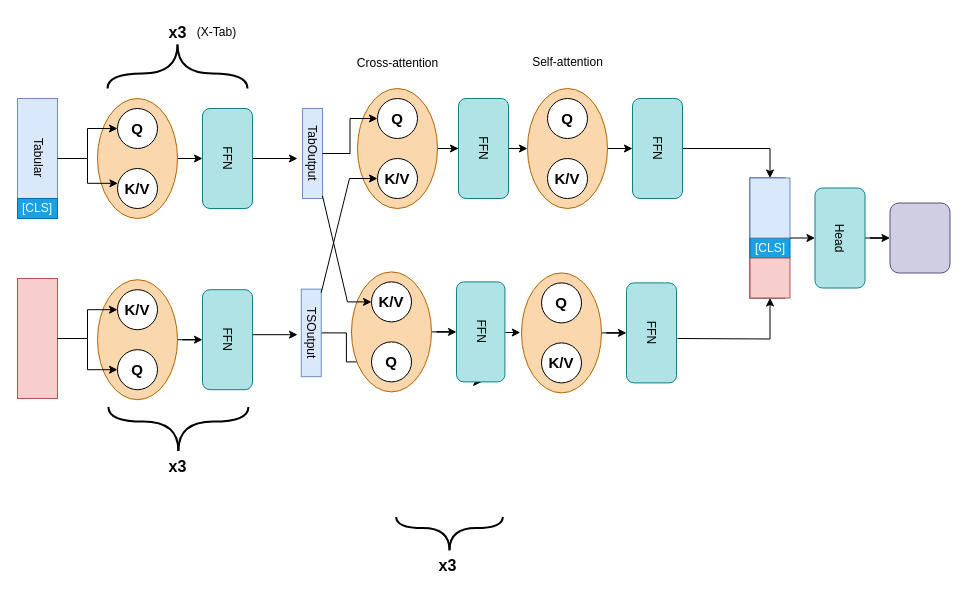
Image size: 968x597. Some labels were removed from this diagram. Each missing label, with the centre of its shape:
"Output" goes at (x=919, y=237).
"Tab" goes at (x=769, y=207).
"Time series" goes at (x=37, y=338).
"TS" goes at (x=769, y=277).
